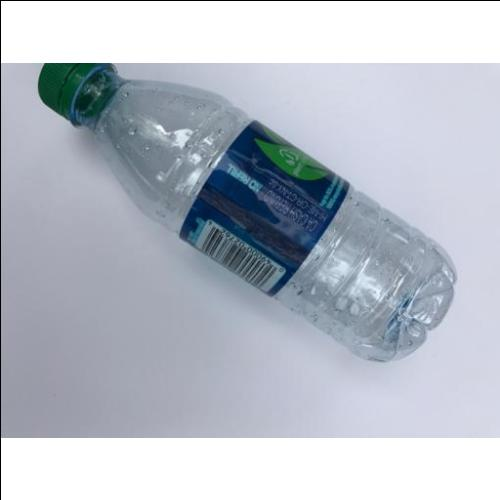plastic: (39, 64, 455, 363)
